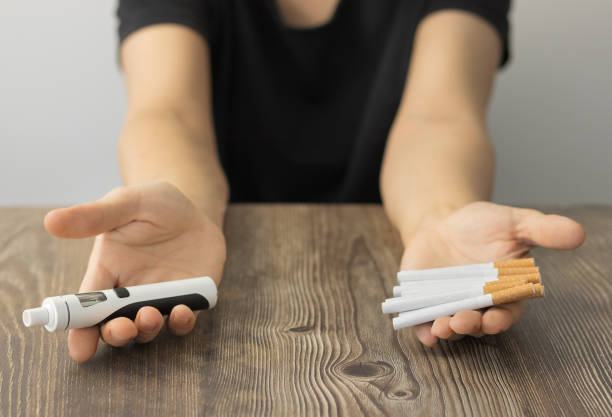cigarette: (22, 275, 219, 332), (391, 283, 536, 331), (380, 282, 528, 317), (392, 280, 531, 297), (397, 266, 541, 281), (392, 272, 543, 285), (460, 256, 536, 268)
